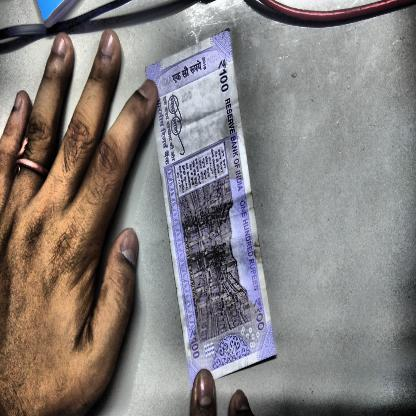Rs100: (217, 56, 231, 95), (188, 326, 202, 362)
